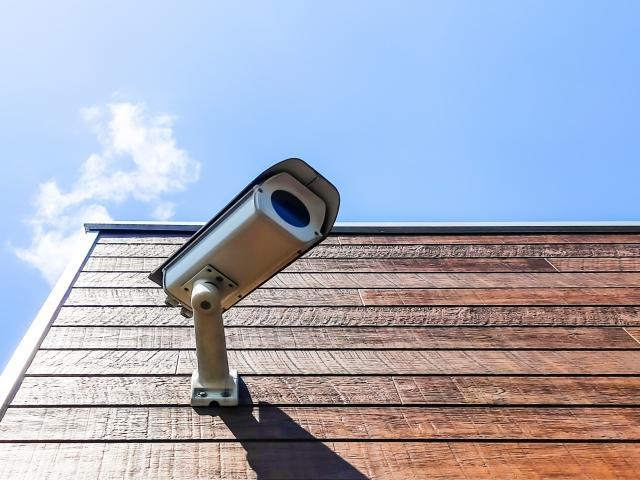tutu: (153, 140, 349, 318)
